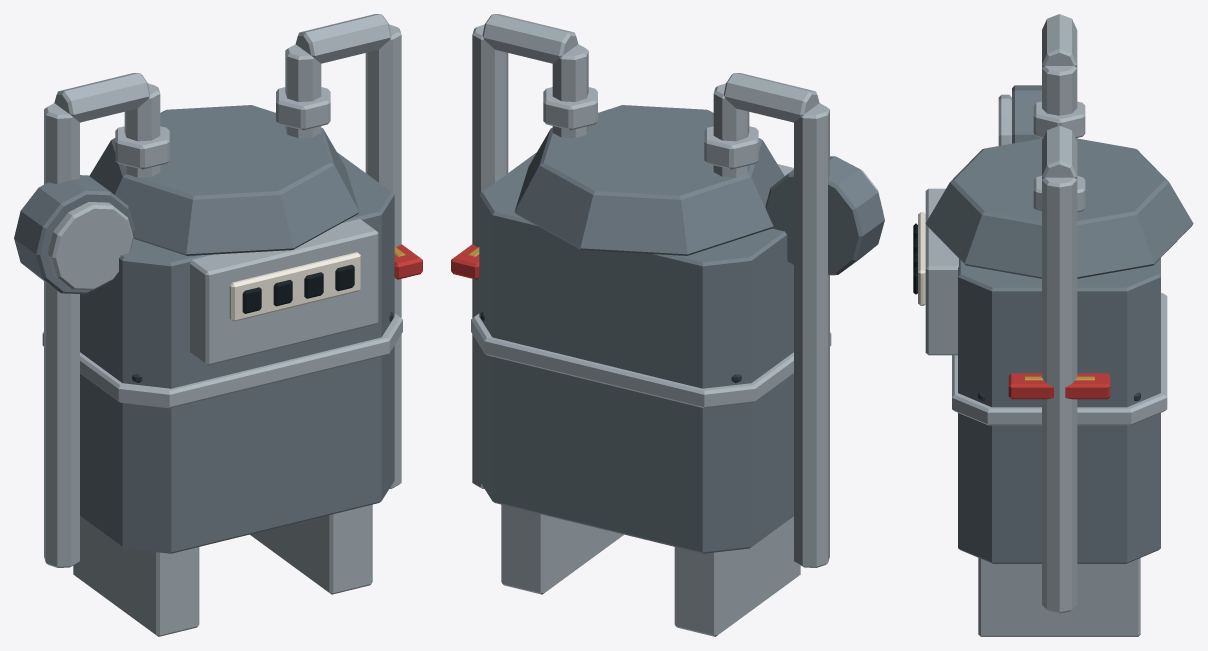
File: b05_residential_gas_meter.glb
The picture shows the model from 3 angles, left to right: view 1: azimuth 30°, elevation 25°; view 2: azimuth 150°, elevation 25°; view 3: azimuth 270°, elevation 25°; orthographic projection. The views are drawn at different scales.
Visible parts, largest first — view 1: b05_residential_gas_meter; view 2: b05_residential_gas_meter; view 3: b05_residential_gas_meter.
Part boxes in pixels (x1,y1,x2,y2): b05_residential_gas_meter: (14, 14, 422, 636); b05_residential_gas_meter: (451, 14, 884, 636); b05_residential_gas_meter: (913, 14, 1193, 636).
Size of the model in its own units: 0.626 by 0.816 by 0.4141.
